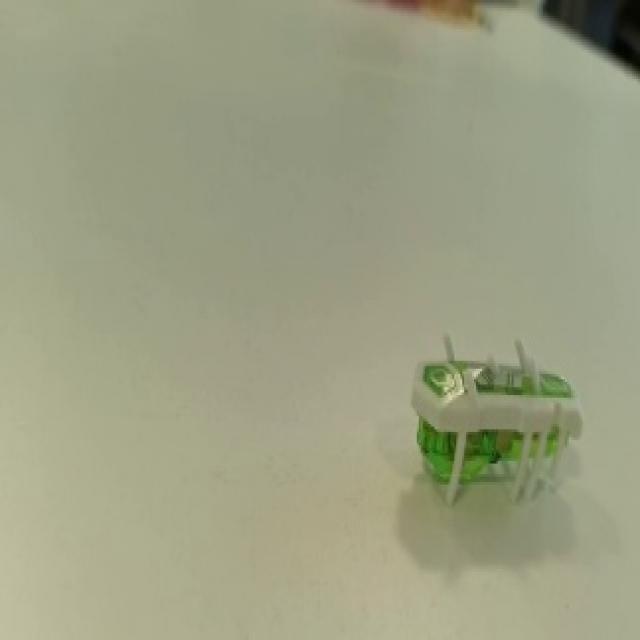4_NanoBug_Blanco: (397, 310, 601, 528)
